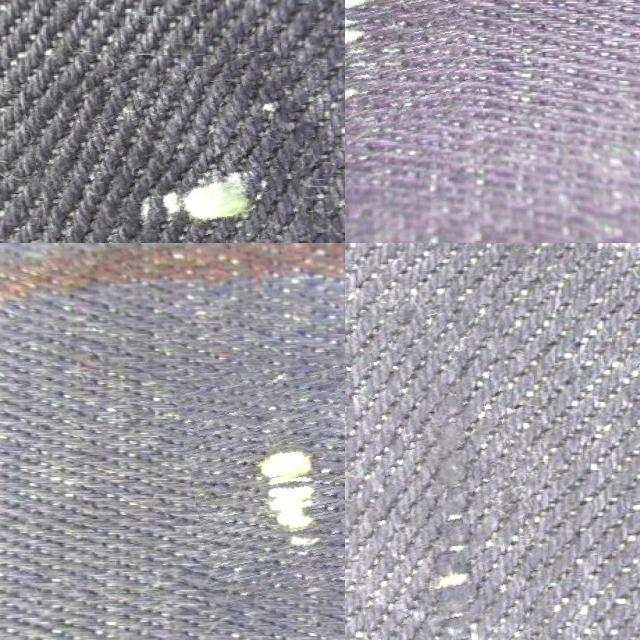stains: (345, 300, 548, 640), (34, 62, 311, 243), (183, 354, 345, 600), (345, 0, 470, 141)
